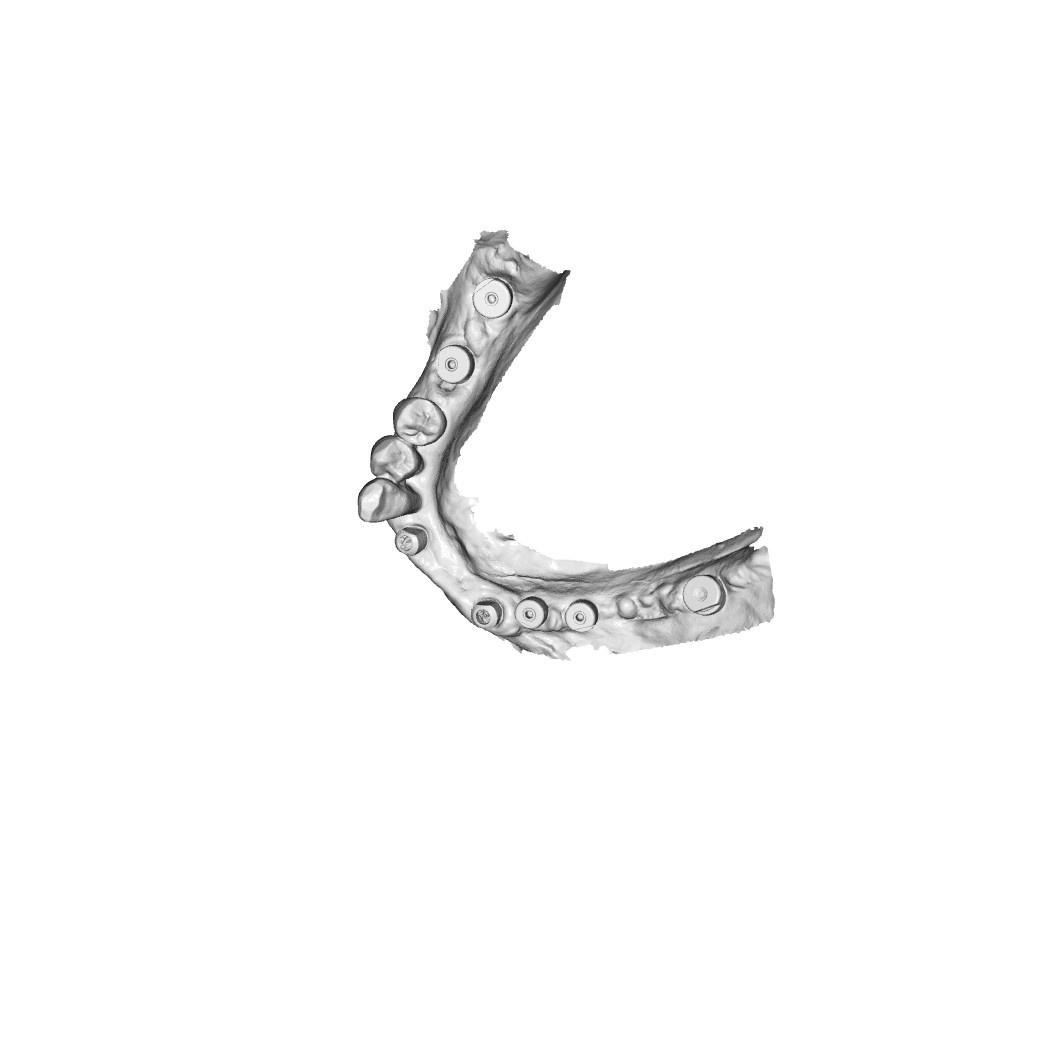canine: (356, 478, 423, 530)
implant: (682, 567, 728, 616), (470, 277, 520, 322), (436, 343, 473, 385), (394, 525, 432, 564), (560, 601, 597, 633), (468, 598, 502, 632), (516, 596, 548, 631)
premolar: (368, 435, 421, 481), (395, 398, 446, 445)
